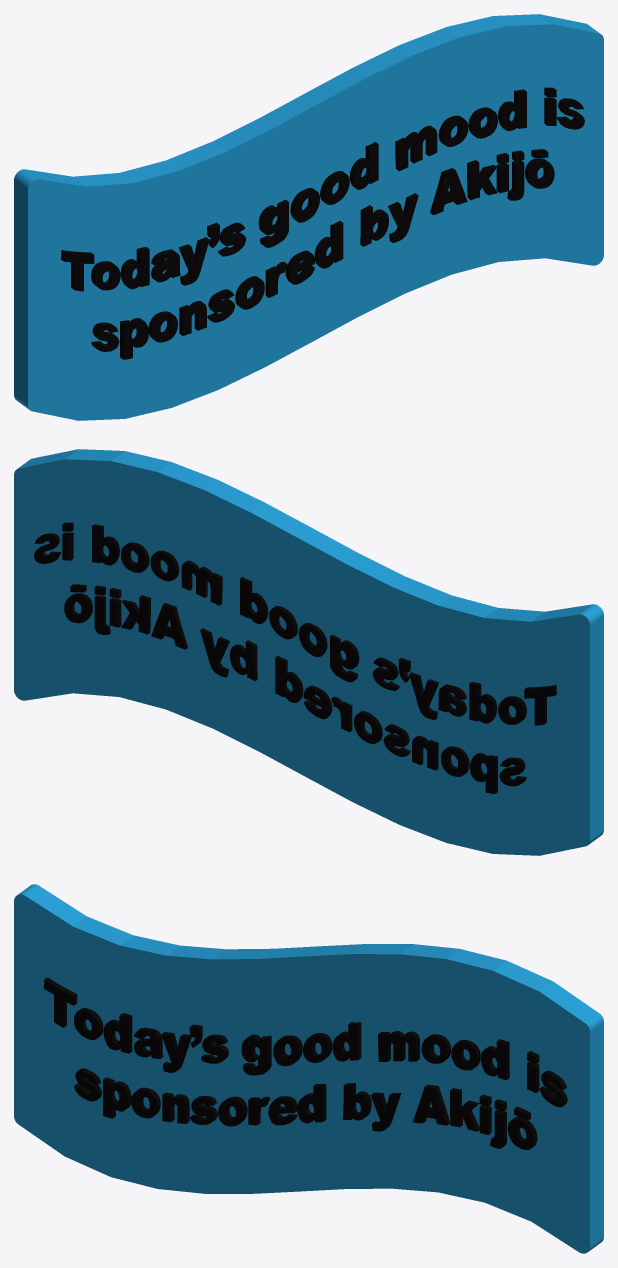
File: slogan_flag.glb
3 views of the same model, one above another, from view 1: azimuth 30°, elevation 25°; view 2: azimuth 150°, elevation 25°; view 3: azimuth 330°, elevation 25° (orthographic).
Parts seen in each view (by area): view 1: Curve.597; view 2: Curve.597; view 3: Curve.597.
Boxes of the visible parts, bbox=[...] form: Curve.597: bbox=[14, 14, 603, 420]; Curve.597: bbox=[14, 449, 603, 855]; Curve.597: bbox=[14, 884, 603, 1253].
Bounding box in the file's own units: 0.2399 × 0.1195 × 0.0142.
